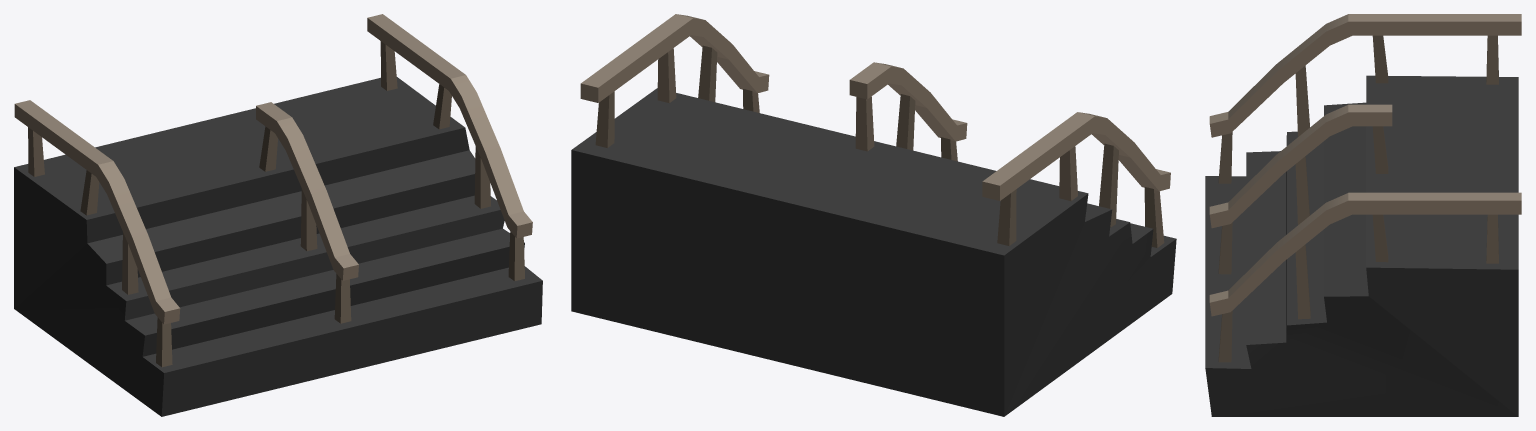
File: Stairs_A1.fbx
3 renders of one model, left to right at view 1: azimuth 30°, elevation 25°; view 2: azimuth 150°, elevation 25°; view 3: azimuth 270°, elevation 25°, orthographic. The views are drawn at different scales.
Parts seen in each view (by area): view 1: Stairs_A1; view 2: Stairs_A1; view 3: Stairs_A1.
Boxes of the visible parts, x1=… form: Stairs_A1: x1=14, y1=14, x2=542, y2=416; Stairs_A1: x1=571, y1=14, x2=1176, y2=416; Stairs_A1: x1=1205, y1=14, x2=1521, y2=416.
Size of the model in its own units: 427 by 216 by 293.
1 material, 1 textured.
